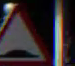Speed Breaker ahead: (0, 5, 50, 65)
